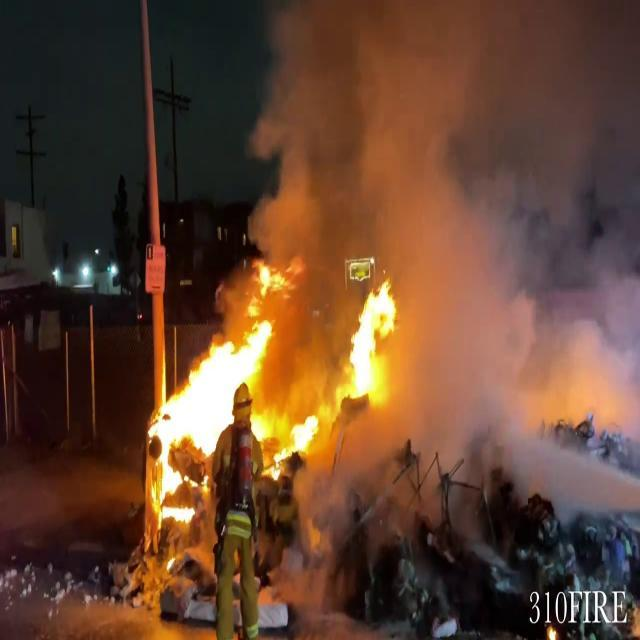Fire: (146, 261, 300, 548), (339, 273, 400, 405), (272, 392, 325, 476)
Smoke: (286, 0, 640, 497)
